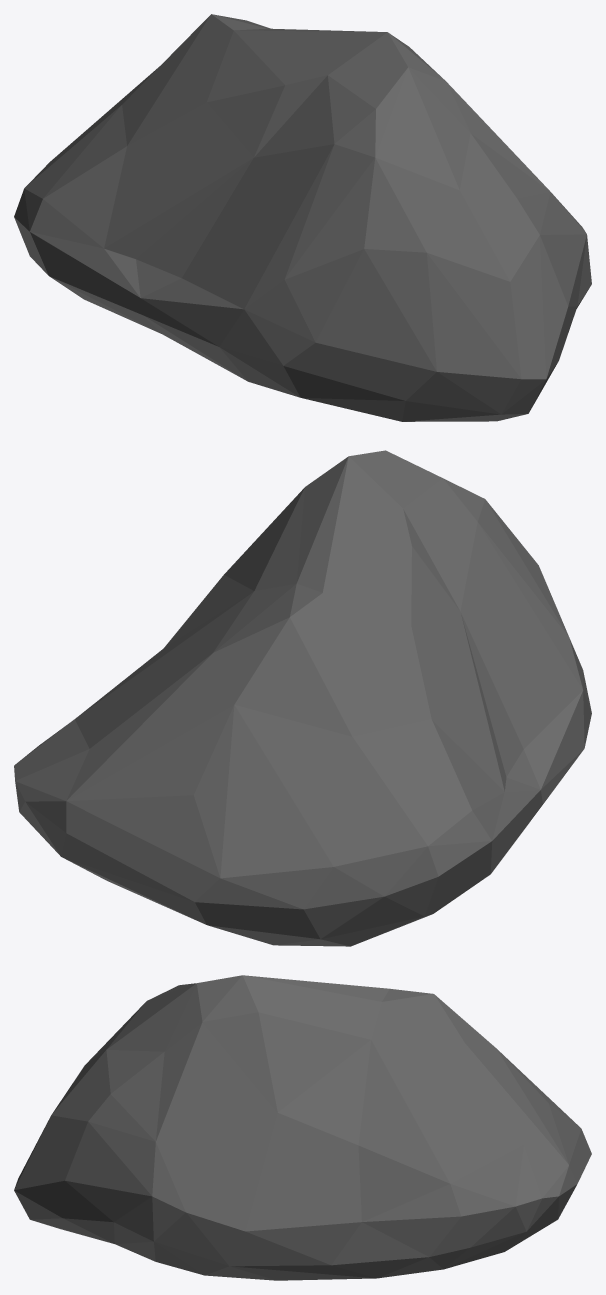
The model's file is rock.glb.
3 views of the same model, one above another, from view 1: azimuth 30°, elevation 25°; view 2: azimuth 150°, elevation 25°; view 3: azimuth 270°, elevation 25° (orthographic). The views are drawn at different scales.
Parts seen in each view (by area): view 1: Roca_03; view 2: Roca_03; view 3: Roca_03.
Boxes of the visible parts, x1=… form: Roca_03: x1=14, y1=14, x2=591, y2=421; Roca_03: x1=14, y1=450, x2=591, y2=946; Roca_03: x1=14, y1=975, x2=591, y2=1280.
Bounding box in the file's own units: 1.57 × 1.17 × 2.3.
1 material, 1 textured.
